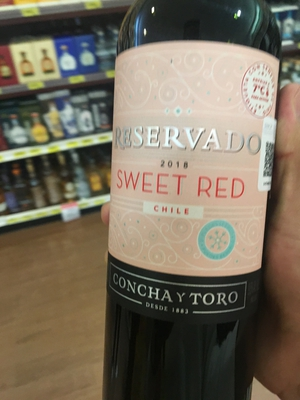reservado sweet red: (97, 8, 284, 392)
